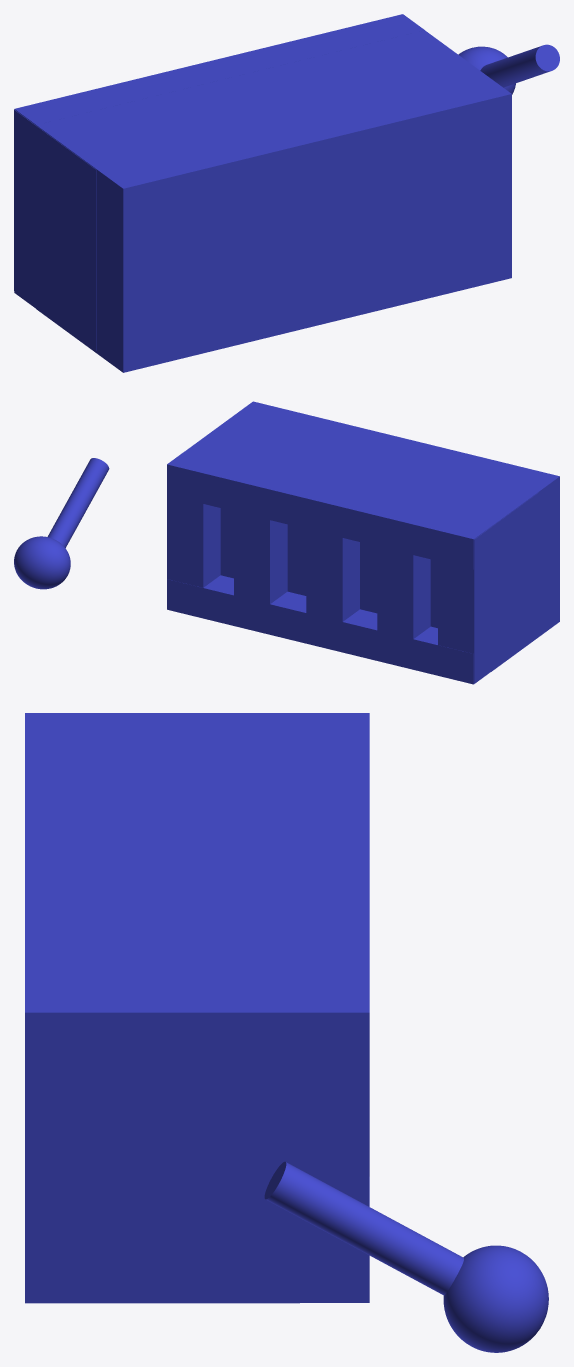
File: levers2Untextured.fbx
3 views of the same model, one above another, from view 1: azimuth 30°, elevation 25°; view 2: azimuth 150°, elevation 25°; view 3: azimuth 270°, elevation 25° (orthographic). The views are drawn at different scales.
Parts seen in each view (by area): view 1: root (×3), node_id175 (×2); view 2: root (×8), node_id175 (×2); view 3: root (×4), node_id175 (×2).
Boxes of the visible parts, x1=… form: root (×3): x1=14, y1=14, x2=511, y2=372; node_id175 (×2): x1=458, y1=44, x2=559, y2=94; root (×8): x1=167, y1=401, x2=559, y2=684; node_id175 (×2): x1=14, y1=458, x2=109, y2=589; root (×4): x1=25, y1=713, x2=369, y2=1303; node_id175 (×2): x1=264, y1=1161, x2=548, y2=1352.
Size of the model in its own units: 1.1 by 0.3585 by 0.5851.
4 materials, 2 textured.
